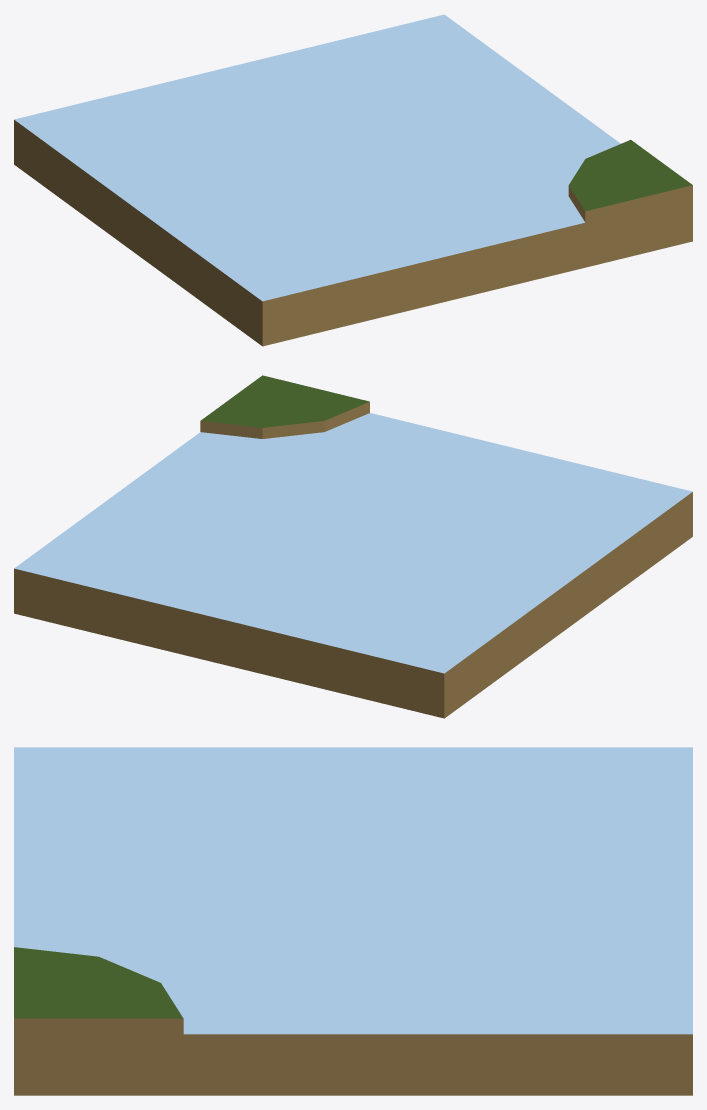
The model's file is Terrain_Tile_Grass_Dirt_Water_Bank_Corner_04.fbx.
The picture shows the model from 3 angles, top to bottom: view 1: azimuth 30°, elevation 25°; view 2: azimuth 150°, elevation 25°; view 3: azimuth 270°, elevation 25°; orthographic projection. The views are drawn at different scales.
Visible parts, largest first — view 1: Terrain_Tile_Grass_Dirt_Water_Bank_Corner_04; view 2: Terrain_Tile_Grass_Dirt_Water_Bank_Corner_04; view 3: Terrain_Tile_Grass_Dirt_Water_Bank_Corner_04.
Part boxes in pixels (<box>): Terrain_Tile_Grass_Dirt_Water_Bank_Corner_04: <box>14,14,692,346</box>; Terrain_Tile_Grass_Dirt_Water_Bank_Corner_04: <box>14,375,692,718</box>; Terrain_Tile_Grass_Dirt_Water_Bank_Corner_04: <box>14,747,692,1095</box>.
Bounding box in the file's own units: 126 × 15.75 × 126.
